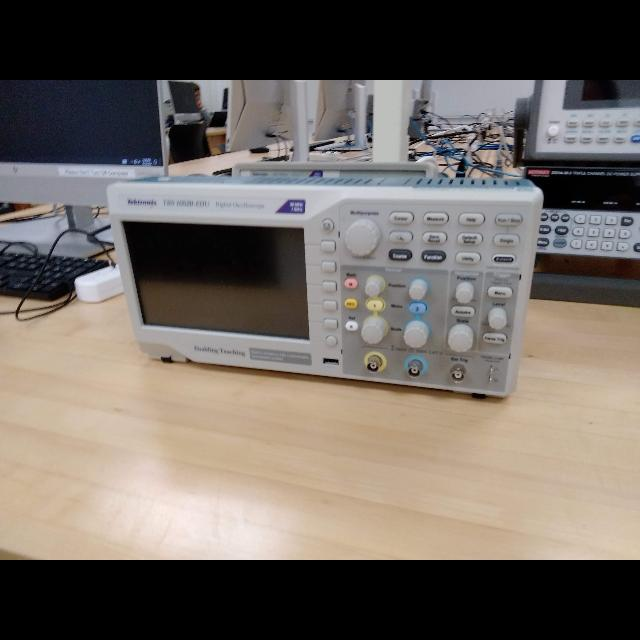Digital-Oscilloscope: (110, 184, 540, 399)
